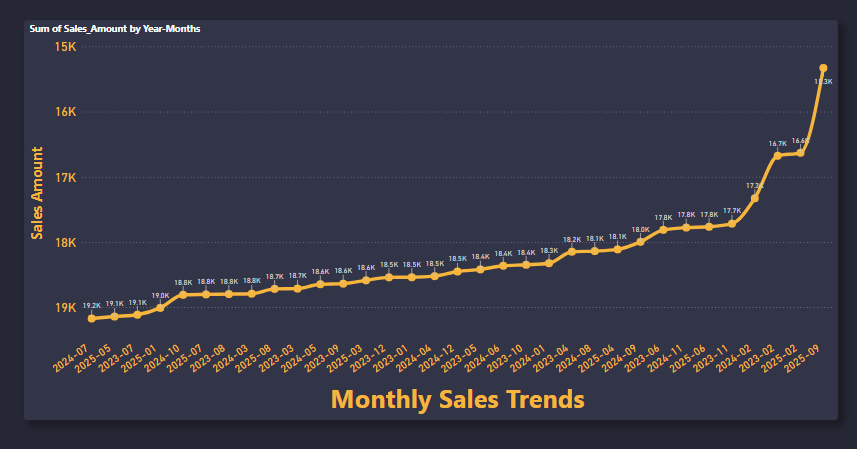

What the dashboard file says about the page in this screenshot:
{"tool":"powerbi","page":{"name":"Monthly Sales Trends","canvas":[1280,720],"ordinal":0},"visuals":[{"type":"lineChart","fields":{"Category":["Sheet1.Year-Months"],"Y":["Sum(Sheet1.Sales_Amount)"]},"box":[42.6,33.8,1196.1,587.8],"z":0}]}

Visuals, with their boxes on the page's 1280x720 design canvas (x1, y1, x2, y2). These are canvas units, not pixel positions in the 857x449 screenshot, which may show the page scaled, cropped or inside an application window:
lineChart - Sheet1.Year-Months x Sum(Sheet1.Sales_Amount): (left=43, top=34, right=1239, bottom=622)
